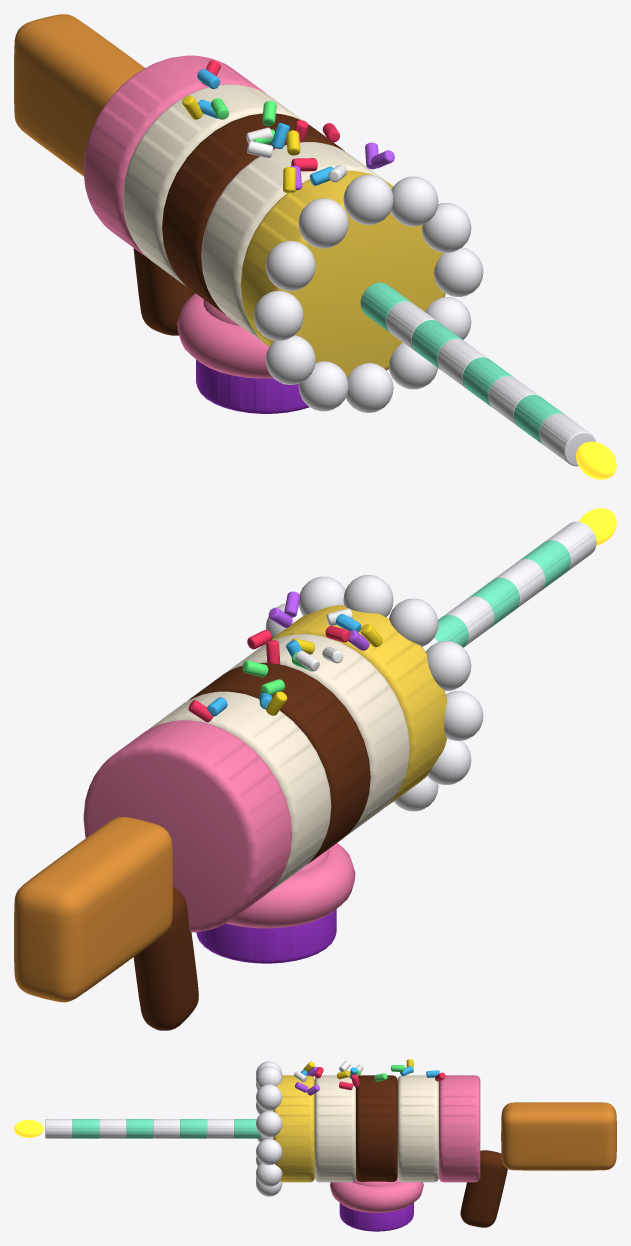
Rendered from LMG2.glb.
3 views of the same model, one above another, from view 1: azimuth 30°, elevation 25°; view 2: azimuth 150°, elevation 25°; view 3: azimuth 270°, elevation 25° (orthographic). The views are drawn at different scales.
Parts seen in each view (by area): view 1: Cylinder.004, Cube, Cylinder, Cylinder.001, Cylinder.003, Cylinder.002, Torus, Cylinder.013, Cube.001, Sphere.004, Sphere.006, Sphere.005 (+18 smaller); view 2: Cylinder, Cube, Cylinder.001, Cylinder.002, Cylinder.003, Cylinder.004, Cube.001, Torus, Cylinder.013, Sphere.004, Sphere.005, Sphere.006 (+11 smaller); view 3: Cube, Cylinder, Cylinder.001, Cylinder.002, Cylinder.003, Cylinder.004, Cube.001, Torus, Cylinder.013, Sphere.002, Sphere.001, Sphere (+12 smaller).
Part boxes in pixels (box(x1,y1,x2,y2)): Cylinder.004: box(240, 170, 445, 377); Cube: box(14, 14, 145, 176); Cylinder: box(83, 55, 265, 256); Cylinder.001: box(123, 84, 302, 286); Cylinder.003: box(201, 142, 383, 343); Cylinder.002: box(162, 113, 344, 314); Torus: box(177, 293, 273, 378); Cylinder.013: box(196, 359, 309, 413); Cube.001: box(133, 248, 194, 335); Sphere.004: box(298, 198, 348, 248); Sphere.006: box(253, 290, 303, 340); Sphere.005: box(265, 241, 315, 290); Cylinder: box(83, 720, 291, 932); Cube: box(14, 817, 172, 1002); Cylinder.001: box(148, 691, 331, 892); Cylinder.002: box(188, 662, 370, 864); Cylinder.003: box(227, 634, 409, 835); Cylinder.004: box(271, 605, 447, 806); Cube.001: box(133, 887, 198, 1030); Torus: box(226, 843, 355, 928); Cylinder.013: box(196, 909, 336, 963); Sphere.004: box(389, 598, 438, 646); Sphere.005: box(426, 641, 471, 690); Sphere.006: box(444, 691, 483, 740); Cube: box(501, 1102, 616, 1170); Cylinder: box(439, 1075, 480, 1182); Cylinder.001: box(397, 1075, 438, 1182); Cylinder.002: box(356, 1075, 397, 1181); Cylinder.003: box(314, 1075, 355, 1182); Cylinder.004: box(273, 1075, 314, 1182); Cube.001: box(460, 1150, 507, 1227); Torus: box(330, 1182, 423, 1212); Cylinder.013: box(339, 1203, 413, 1231); Sphere.002: box(256, 1084, 282, 1110); Sphere.001: box(256, 1111, 282, 1137); Sphere: box(256, 1139, 282, 1165).
Bounding box in the file's own units: 0.164 × 0.2123 × 0.7279.
